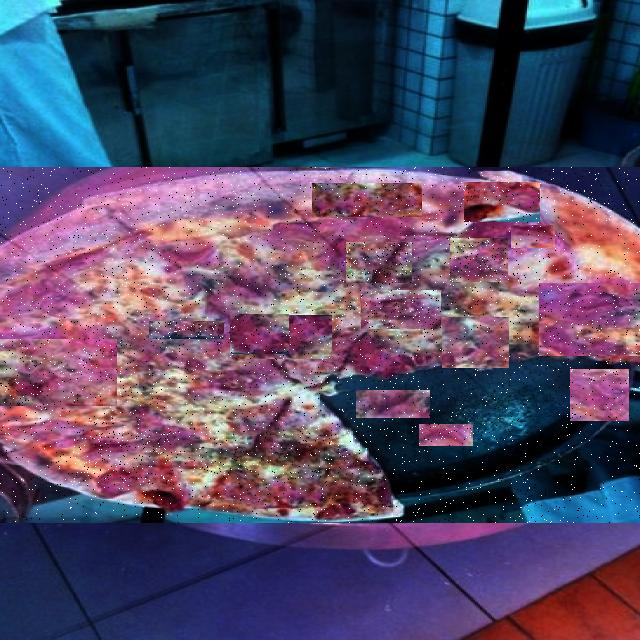Ham: (202, 425, 366, 478), (0, 339, 117, 406), (539, 284, 640, 358), (71, 431, 171, 482), (232, 315, 332, 359), (312, 183, 422, 217), (442, 317, 509, 368), (361, 290, 441, 329), (570, 369, 629, 421), (464, 182, 540, 222), (346, 242, 412, 283), (450, 238, 508, 282), (230, 314, 289, 354), (402, 339, 460, 377), (552, 240, 622, 270), (356, 390, 430, 418), (149, 321, 224, 339), (419, 424, 473, 446), (511, 225, 555, 248)
Pizza: (0, 167, 640, 523)
